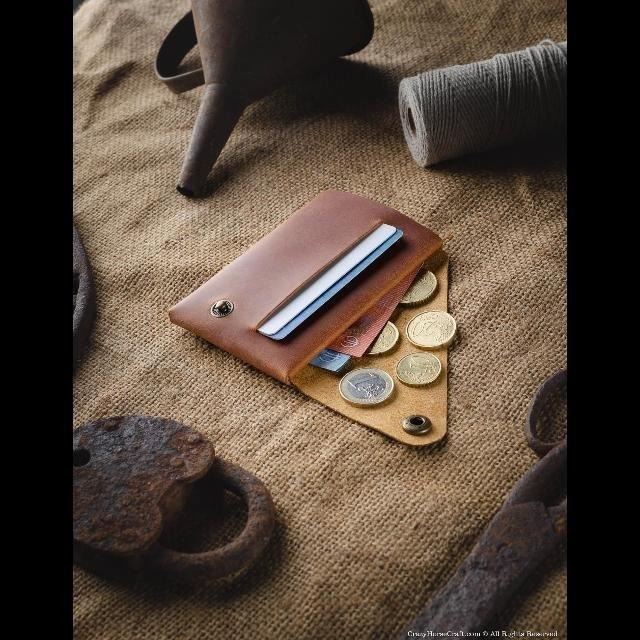Wallet: (164, 182, 458, 446)
